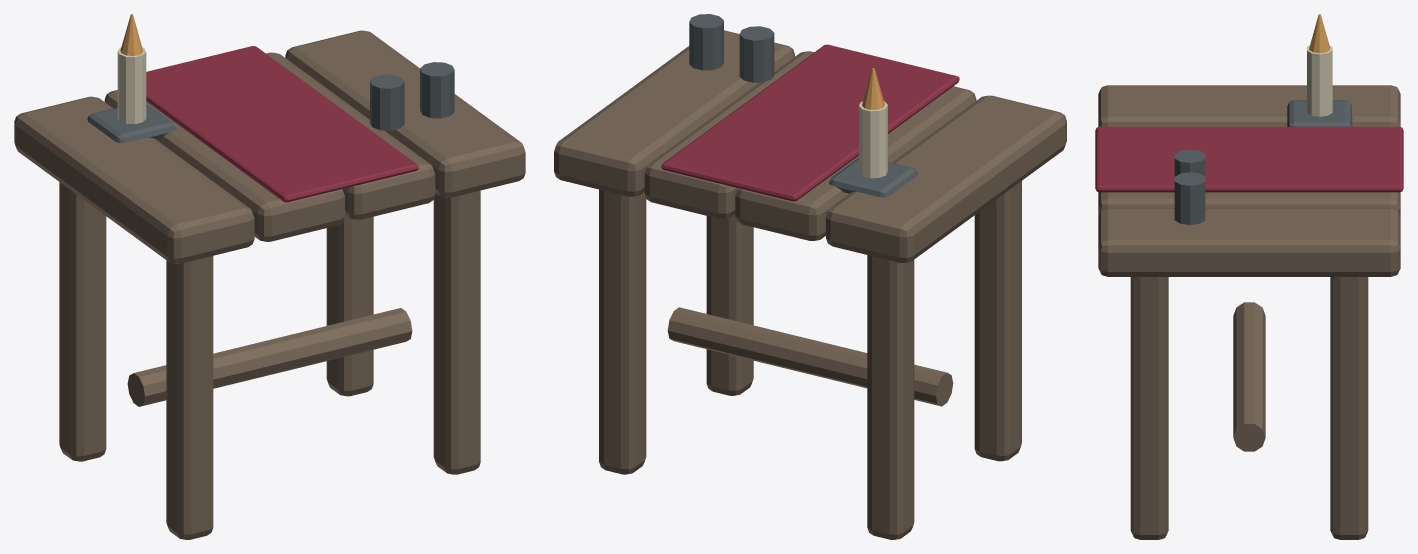
The model's file is inn_table.glb.
The picture shows the model from 3 angles, left to right: view 1: azimuth 30°, elevation 25°; view 2: azimuth 150°, elevation 25°; view 3: azimuth 270°, elevation 25°; orthographic projection. The views are drawn at different scales.
Parts seen in each view (by area): view 1: Body.076; view 2: Body.076; view 3: Body.076.
Boxes of the visible parts, x1,y1,x2,y2 form: Body.076: (14, 14, 525, 539); Body.076: (554, 14, 1066, 539); Body.076: (1095, 14, 1403, 539).
Bounding box in the file's own units: 0.712 × 0.847 × 0.57.
